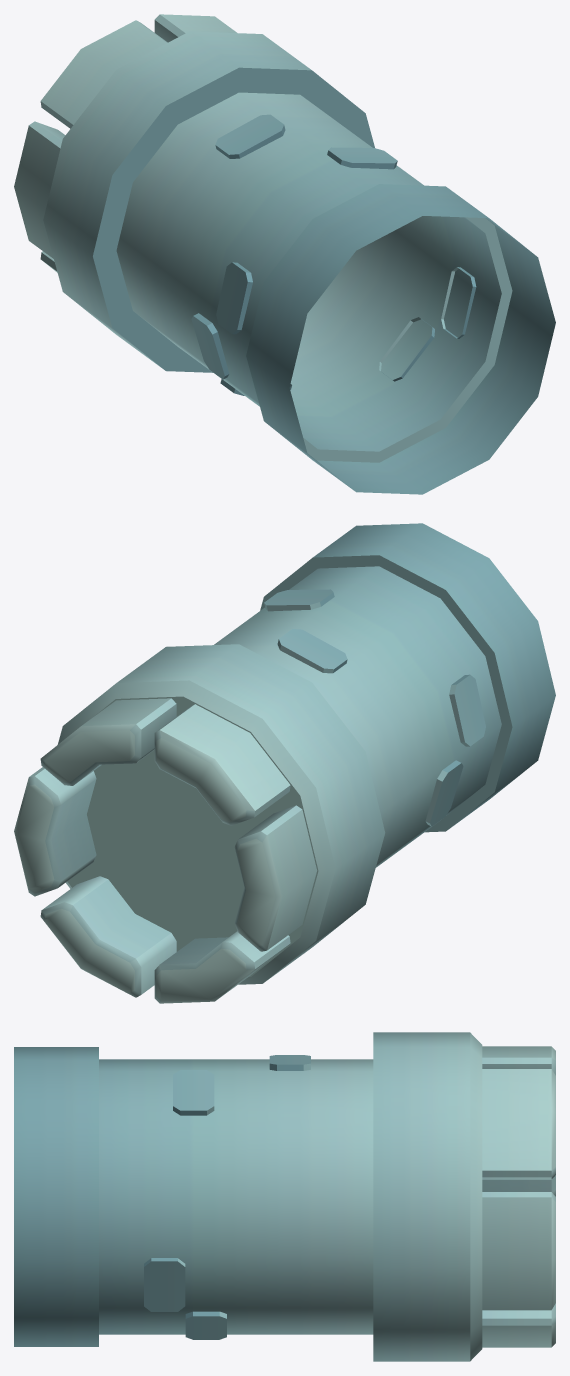
Rendered from Tower 01.FBX.
3 views of the same model, one above another, from view 1: azimuth 30°, elevation 25°; view 2: azimuth 150°, elevation 25°; view 3: azimuth 270°, elevation 25° (orthographic). The views are drawn at different scales.
Parts seen in each view (by area): view 1: Tower 01; view 2: Tower 01; view 3: Tower 01.
Boxes of the visible parts, left/top/right/bottom form: Tower 01: left=14, top=14, right=555, bottom=494; Tower 01: left=14, top=523, right=555, bottom=1003; Tower 01: left=14, top=1032, right=555, bottom=1361.
Size of the model in its own units: 697 by 697 by 1144.
1 material, 1 textured.
